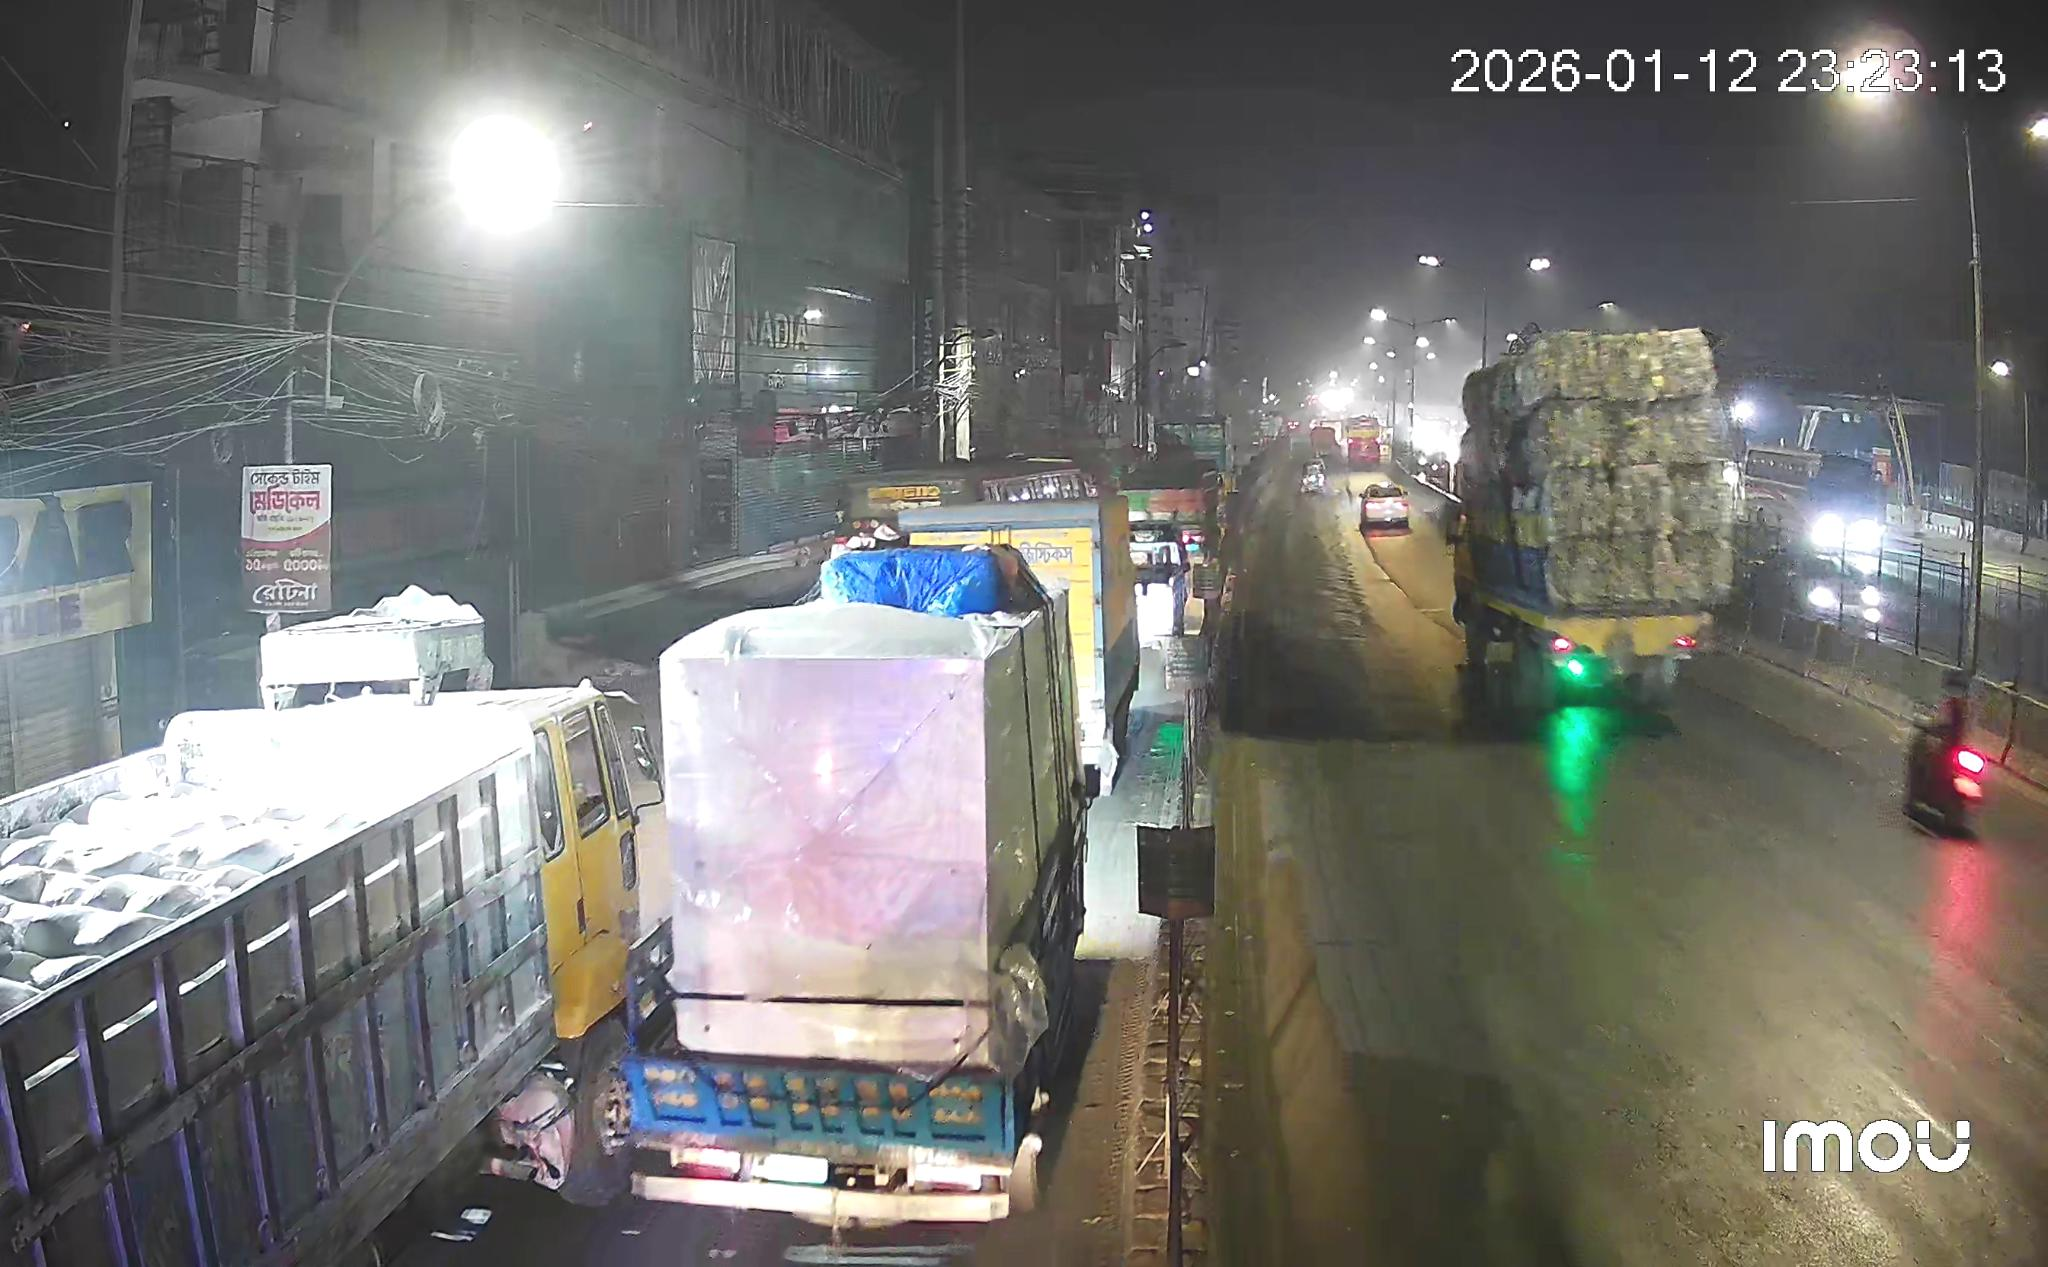Motorcycle: (1903, 670, 1988, 834)
Private-Sedan Car: (1359, 483, 1410, 535)
Truck: (0, 547, 1097, 1267), (1445, 328, 1742, 711)
